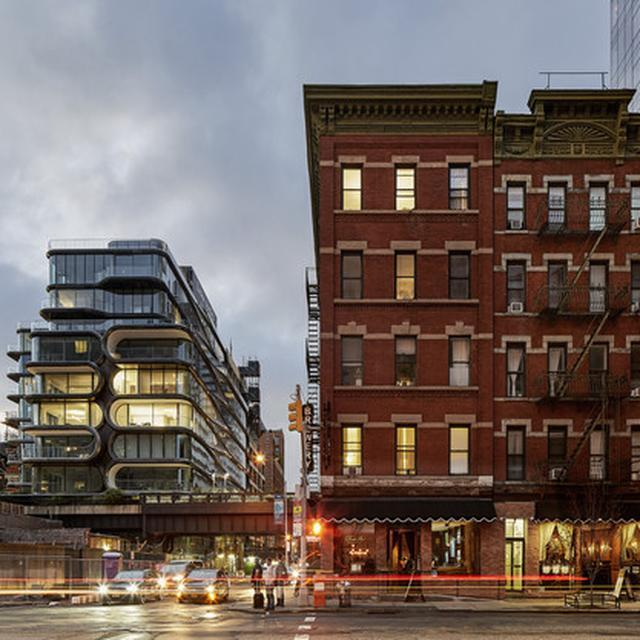building: (301, 80, 640, 591), (5, 236, 256, 541)
